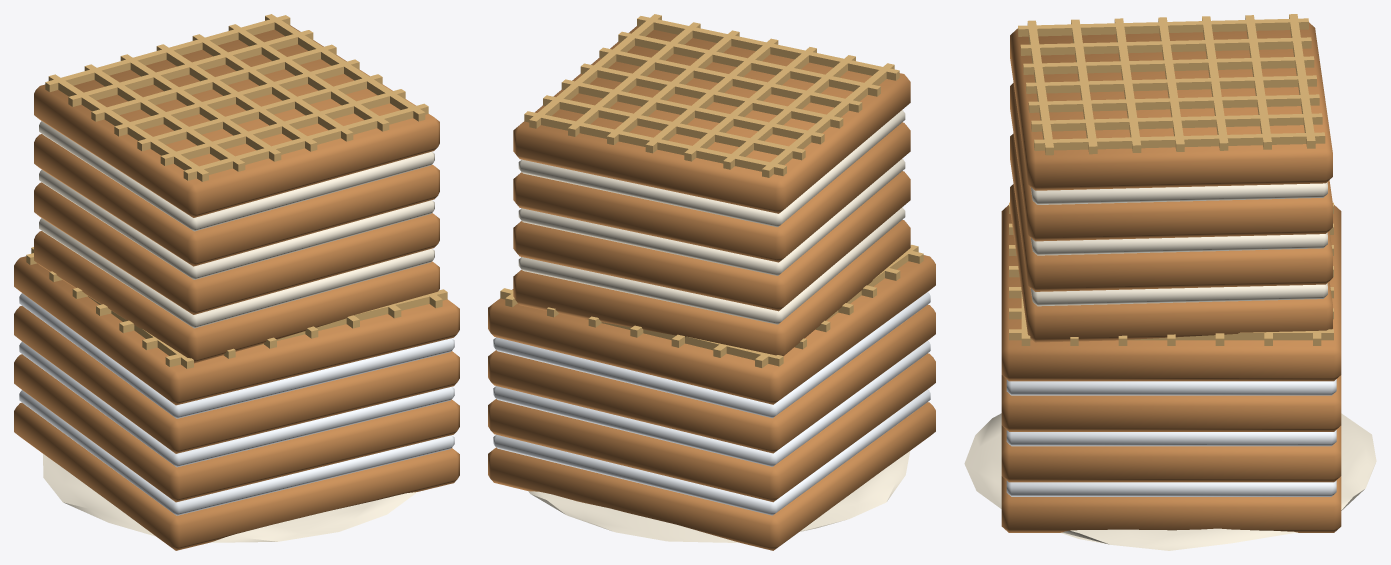
The model's file is WaferBlock.fbx.
The picture shows the model from 3 angles, left to right: view 1: azimuth 30°, elevation 25°; view 2: azimuth 150°, elevation 25°; view 3: azimuth 270°, elevation 25°; orthographic projection. The views are drawn at different scales.
Visible parts, largest first — view 1: WaferBlock; view 2: WaferBlock; view 3: WaferBlock.
Part boxes in pixels (x1,y1,x2,y2): WaferBlock: [14, 14, 459, 550]; WaferBlock: [488, 14, 935, 550]; WaferBlock: [964, 14, 1376, 550].
Bounding box in the file's own units: 1.73 × 1.73 × 1.7.
2 materials, 2 textured.
